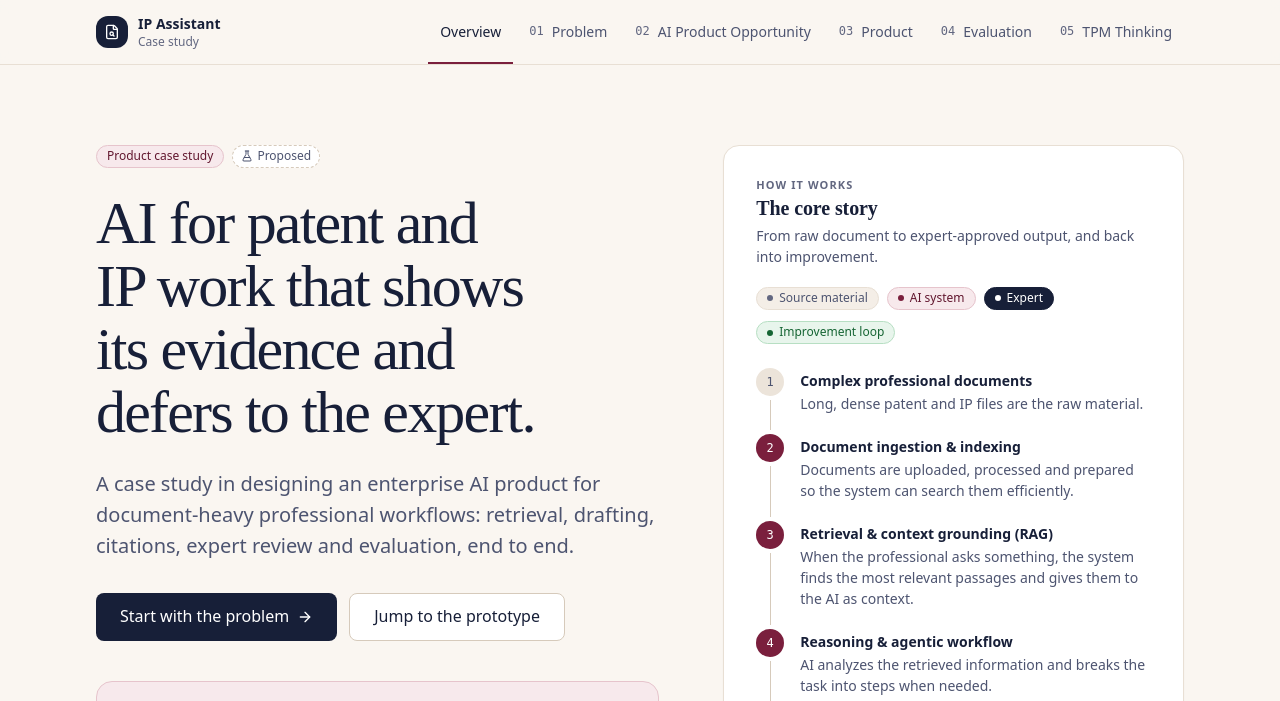
Test: routing › links every section from the header, marks the current one, and moves focus to <main> on navigation
Expected: the 1st heading is shown, [96,190,535,445]
Click the link "04 Evaluation" at (986, 31), box [941,22,1032,40]
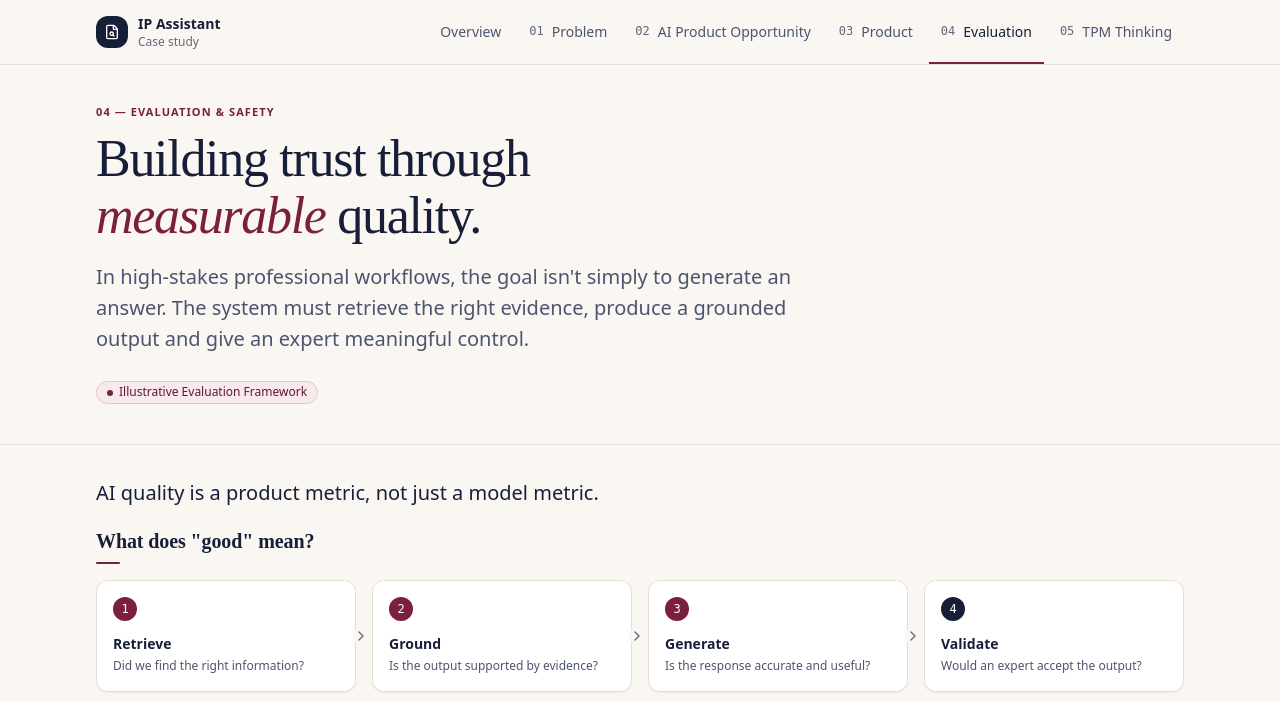
Now the heading "Building trust through measurable quality." is shown, box [96,130,530,244]
